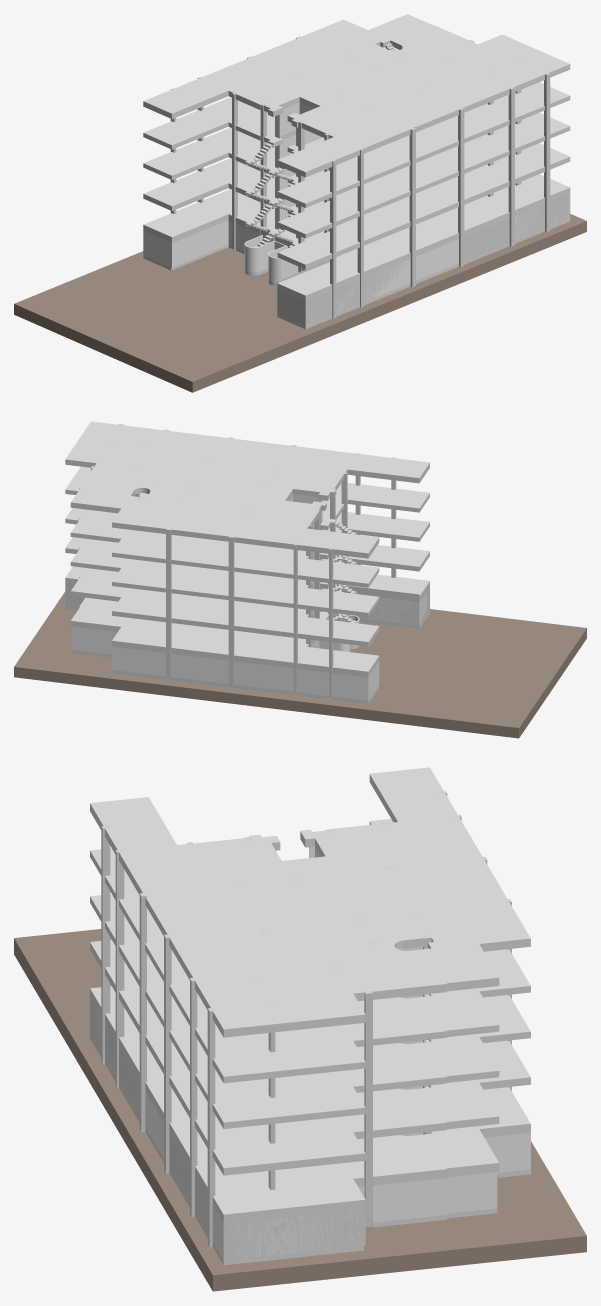
File: Planta de Sotano.glb
3 renders of one model, top to bottom at view 1: azimuth 30°, elevation 25°; view 2: azimuth 150°, elevation 25°; view 3: azimuth 270°, elevation 25°, orthographic. The views are drawn at different scales.
Visible parts, largest first — view 1: 3DGeom-887, 3DGeom-250, 3DGeom-254, 3DGeom-838, 3DGeom-574, 3DGeom-757, 3DGeom-7, 3DGeom-2, 3DGeom-18, 3DGeom-192, 3DGeom-251, 3DGeom-202 (+10 smaller); view 2: 3DGeom-250, 3DGeom-887, 3DGeom-838, 3DGeom-757, 3DGeom-574, 3DGeom-254, 3DGeom-7, 3DGeom-18, 3DGeom-197, 3DGeom-252, 3DGeom-190, 3DGeom-30 (+7 smaller); view 3: 3DGeom-887, 3DGeom-250, 3DGeom-254, 3DGeom-574, 3DGeom-838, 3DGeom-757, 3DGeom-180, 3DGeom-2, 3DGeom-4, 3DGeom-185, 3DGeom-18, 3DGeom-25 (+10 smaller).
Part boxes in pixels (bbox=[...]): 3DGeom-887: bbox=[143, 14, 570, 177]; 3DGeom-250: bbox=[14, 214, 586, 392]; 3DGeom-254: bbox=[143, 174, 570, 301]; 3DGeom-838: bbox=[143, 49, 570, 207]; 3DGeom-574: bbox=[143, 143, 570, 269]; 3DGeom-757: bbox=[143, 112, 570, 238]; 3DGeom-7: bbox=[277, 259, 408, 325]; 3DGeom-2: bbox=[464, 194, 570, 260]; 3DGeom-18: bbox=[143, 218, 570, 329]; 3DGeom-192: bbox=[173, 220, 228, 267]; 3DGeom-251: bbox=[416, 239, 458, 280]; 3DGeom-202: bbox=[364, 259, 410, 300]; 3DGeom-250: bbox=[14, 591, 586, 738]; 3DGeom-887: bbox=[65, 421, 429, 558]; 3DGeom-838: bbox=[65, 466, 429, 587]; 3DGeom-757: bbox=[65, 508, 429, 616]; 3DGeom-574: bbox=[65, 537, 429, 646]; 3DGeom-254: bbox=[65, 566, 429, 677]; 3DGeom-7: bbox=[348, 575, 429, 625]; 3DGeom-18: bbox=[65, 607, 429, 703]; 3DGeom-197: bbox=[234, 661, 293, 691]; 3DGeom-252: bbox=[171, 653, 228, 683]; 3DGeom-190: bbox=[113, 646, 165, 676]; 3DGeom-30: bbox=[228, 536, 234, 685]; 3DGeom-887: bbox=[90, 767, 530, 1037]; 3DGeom-250: bbox=[14, 929, 586, 1291]; 3DGeom-254: bbox=[90, 986, 530, 1223]; 3DGeom-574: bbox=[90, 939, 530, 1175]; 3DGeom-838: bbox=[90, 819, 530, 1083]; 3DGeom-757: bbox=[90, 894, 530, 1128]; 3DGeom-180: bbox=[223, 1209, 365, 1260]; 3DGeom-2: bbox=[170, 1133, 287, 1260]; 3DGeom-4: bbox=[287, 1208, 365, 1253]; 3DGeom-185: bbox=[373, 1178, 445, 1222]; 3DGeom-18: bbox=[90, 1034, 530, 1265]; 3DGeom-25: bbox=[364, 990, 372, 1224].
Bounding box in the file's own units: 49.46 × 15.46 × 31.81.
